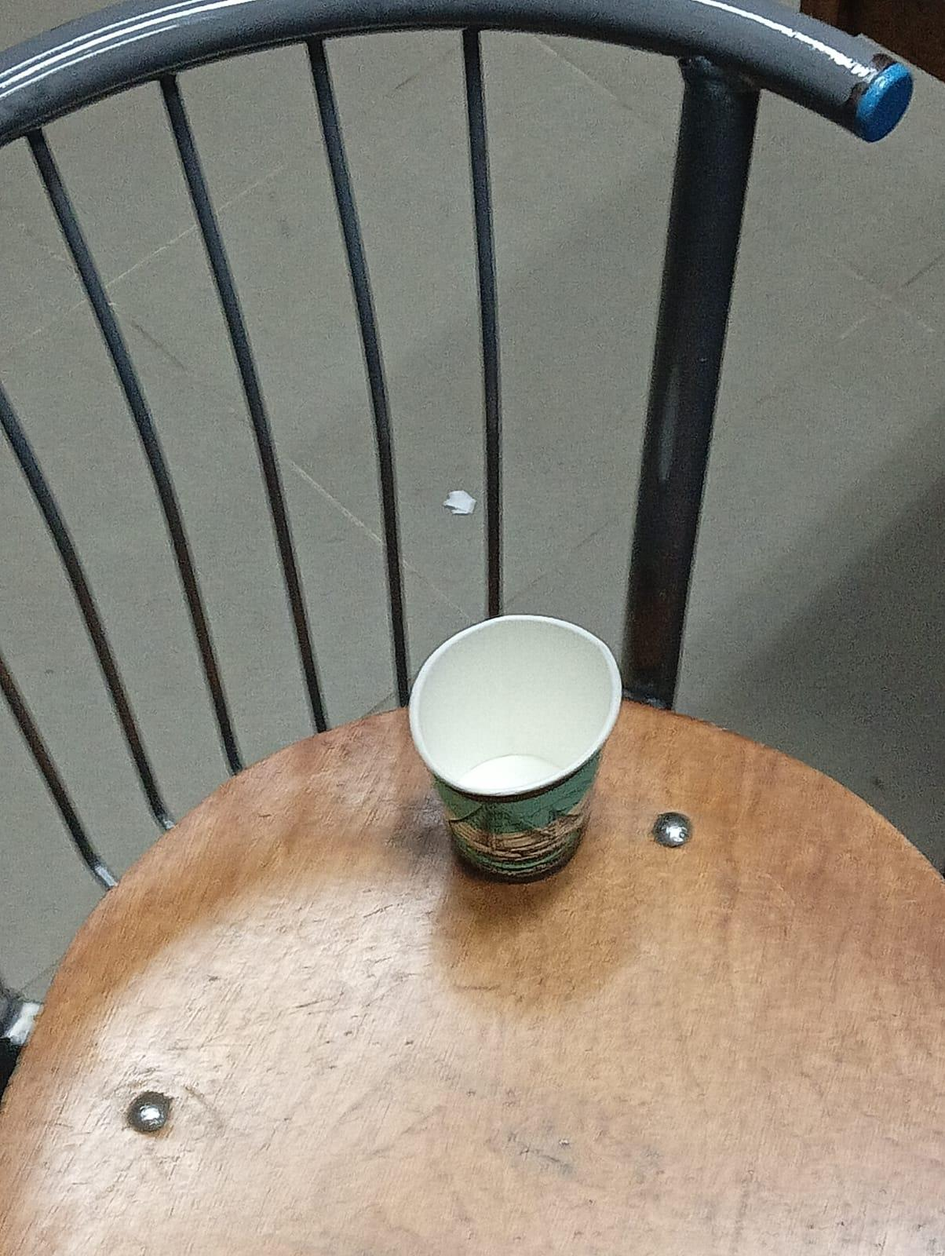cup: (410, 615, 621, 879)
